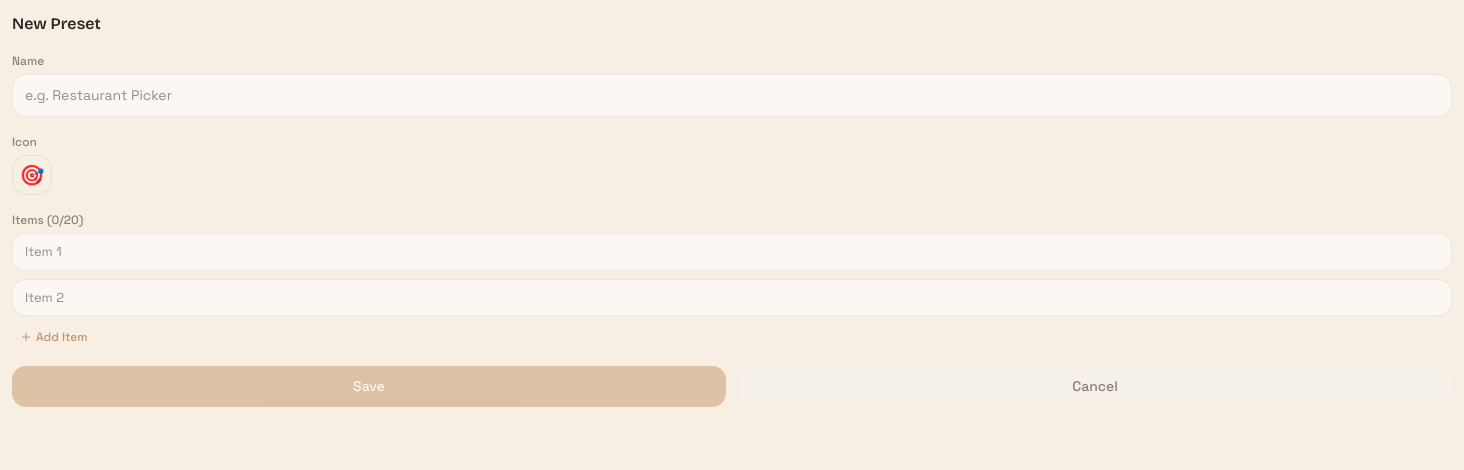
CreatePresetForm › removes an item when remove button is clicked
Note: Add a third item first (need 3+ to show remove buttons)
Click the button with test id "add-item-btn". click: (54,337)
box: [12,324,96,350]
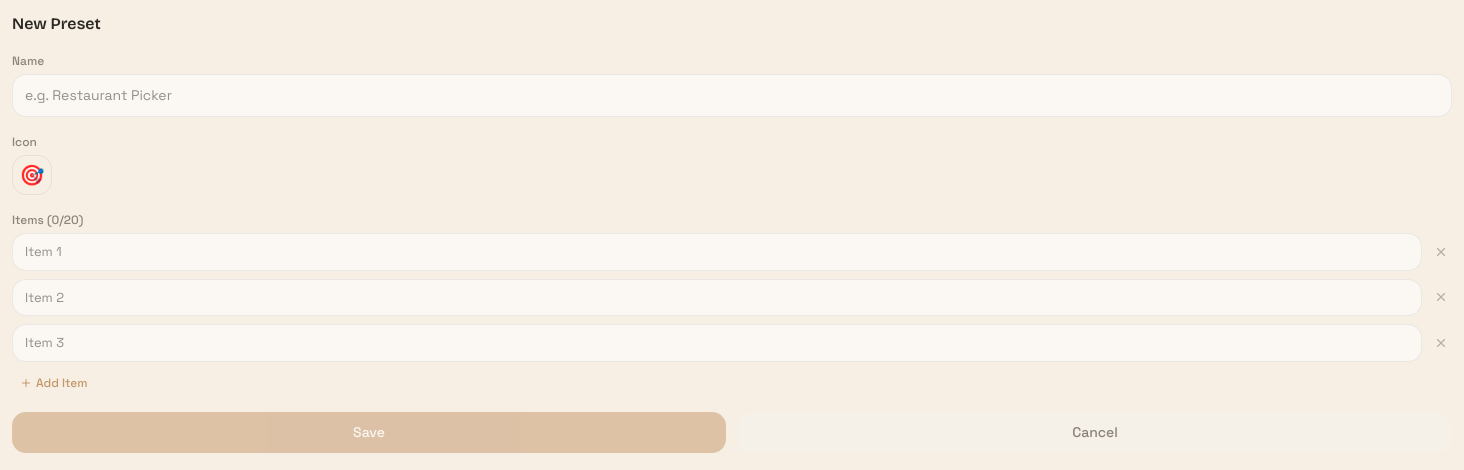
Now the field with test id "item-input-2" is shown, box [12,324,1422,362]
Note: Remove the third item
Click the button with test id "remove-item-2". click: (1441,343)
box: [1430,332,1452,354]
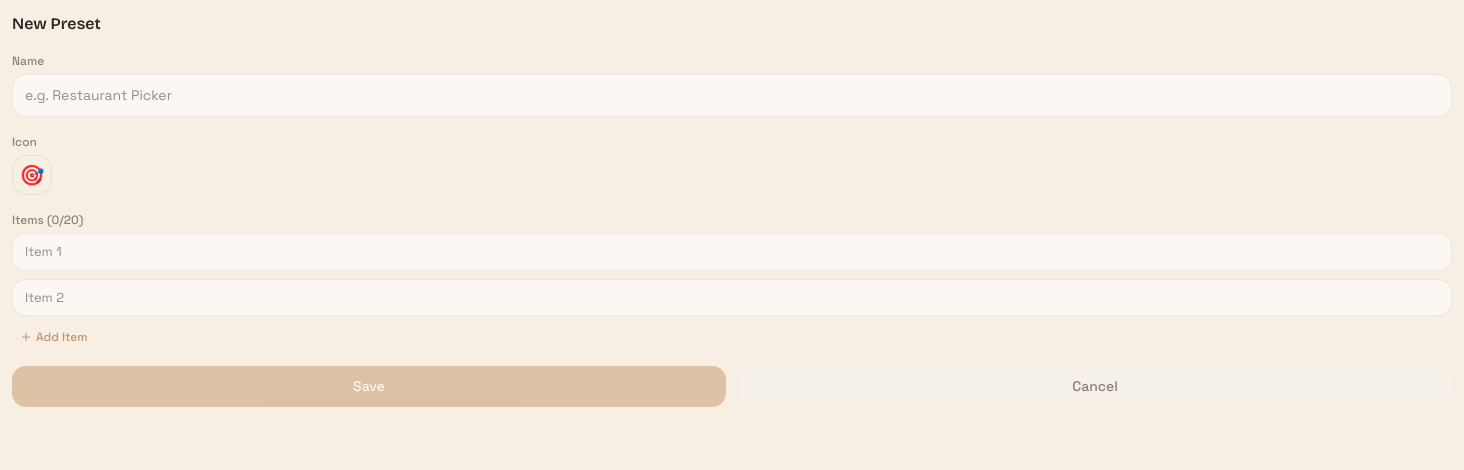
Now the field with test id "item-input-2" is gone
